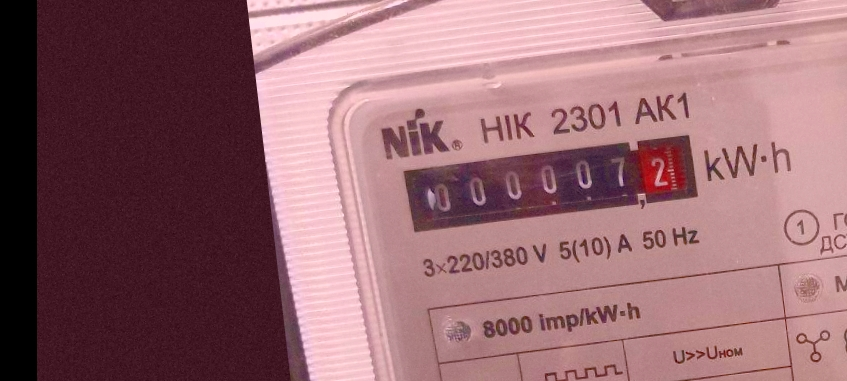0: (500, 165, 527, 205), (430, 178, 456, 215), (571, 155, 596, 193), (538, 161, 562, 200), (467, 172, 490, 209)
2: (648, 153, 673, 191)
7: (607, 152, 632, 192)
screen: (398, 126, 709, 241)
